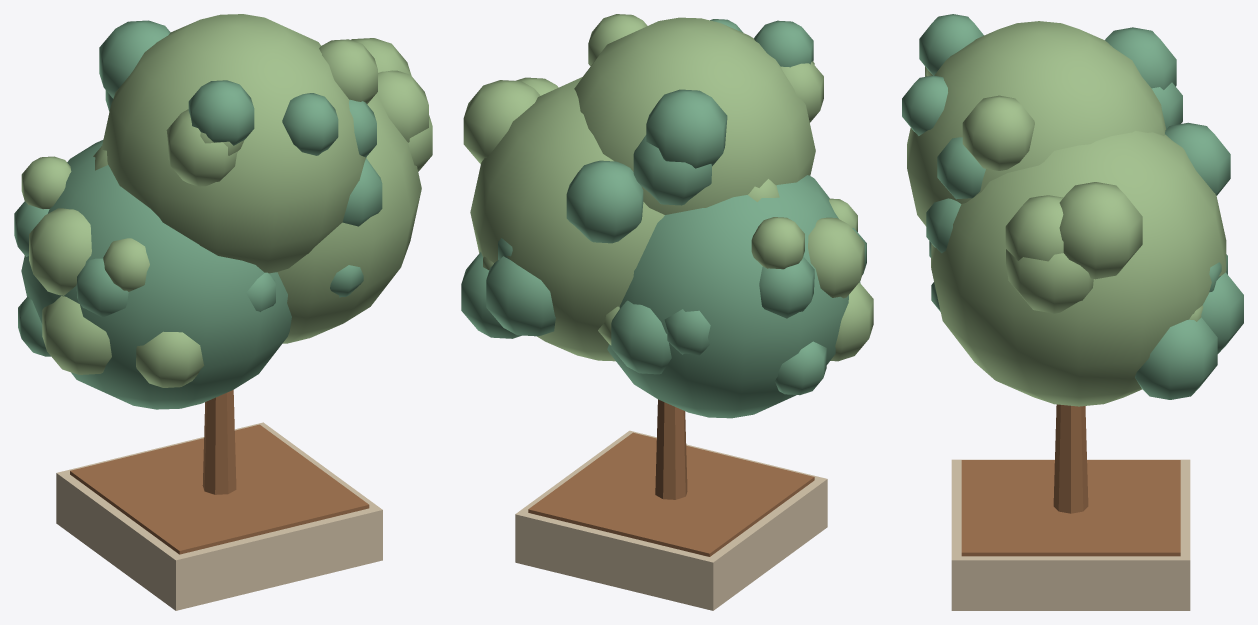
Rendered from plane-tree-planter.glb.
The picture shows the model from 3 angles, left to right: view 1: azimuth 30°, elevation 25°; view 2: azimuth 150°, elevation 25°; view 3: azimuth 270°, elevation 25°; orthographic projection. The views are drawn at different scales.
Parts seen in each view (by area): view 1: plane-tree-planter; view 2: plane-tree-planter; view 3: plane-tree-planter.
Part boxes in pixels (x1,y1,x2,y2): plane-tree-planter: (14, 14, 432, 610); plane-tree-planter: (461, 14, 873, 610); plane-tree-planter: (902, 14, 1243, 610).
Size of the model in its own units: 5.68 by 7.3 by 4.29.
